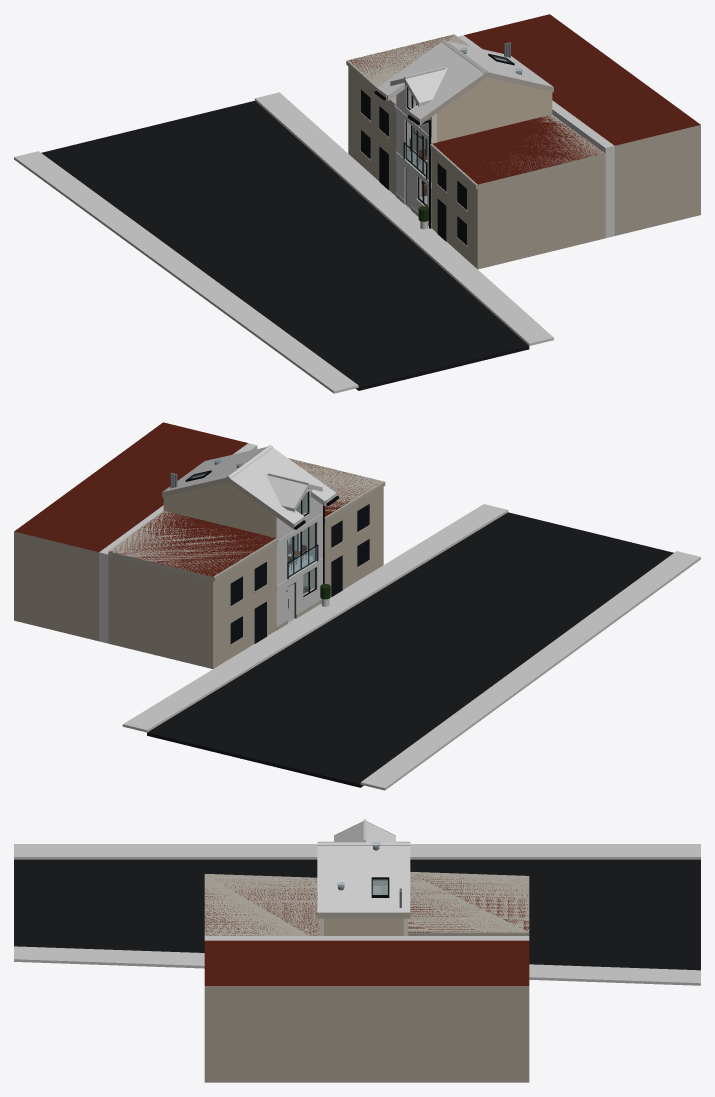
Rendered from Casa B - con terraza.obj.
3 renders of one model, top to bottom at view 1: azimuth 30°, elevation 25°; view 2: azimuth 150°, elevation 25°; view 3: azimuth 270°, elevation 25°, orthographic. The views are drawn at different scales.
Parts seen in each view (by area): view 1: Calle_y_aceras, Colindante_sur_(h_5.27), Colindante_trasero, Colindante_norte_(h_5.80), BC_Muros_exteriores, Cubierta_faldón_delantero, Cubierta_faldón_trasero, Muro_de_piedra_trasero, P1_Muros_exteriores, Casetón, PB_Muros_exteriores, P1_Vidrios_de_fachada; view 2: Calle_y_aceras, Colindante_norte_(h_5.80), Colindante_trasero, Colindante_sur_(h_5.27), BC_Muros_exteriores, Cubierta_faldón_delantero, Cubierta_faldón_trasero, Muro_de_piedra_trasero, PB_Muros_exteriores, Casetón, P1_Muros_exteriores, P1_Vidrios_de_fachada (+1 smaller); view 3: Calle_y_aceras, Colindante_trasero, Colindante_norte_(h_5.80), Colindante_sur_(h_5.27), Cubierta_faldón_trasero, Muro_de_piedra_trasero, BC_Muros_exteriores, Casetón.
Boxes of the visible parts, left/top/right/bottom form: Calle_y_aceras: left=14, top=92, right=553, bottom=393; Colindante_sur_(h_5.27): left=430, top=114, right=605, bottom=269; Colindante_trasero: left=464, top=14, right=700, bottom=235; Colindante_norte_(h_5.80): left=346, top=34, right=470, bottom=195; BC_Muros_exteriores: left=396, top=77, right=552, bottom=138; Cubierta_faldón_delantero: left=378, top=42, right=486, bottom=124; Cubierta_faldón_trasero: left=441, top=39, right=553, bottom=92; Muro_de_piedra_trasero: left=458, top=35, right=614, bottom=237; P1_Muros_exteriores: left=396, top=109, right=552, bottom=182; Casetón: left=390, top=67, right=447, bottom=130; PB_Muros_exteriores: left=396, top=157, right=431, bottom=223; P1_Vidrios_de_fachada: left=404, top=122, right=426, bottom=177; Calle_y_aceras: left=122, top=504, right=700, bottom=790; Colindante_norte_(h_5.80): left=108, top=511, right=278, bottom=668; Colindante_trasero: left=14, top=422, right=247, bottom=641; Colindante_sur_(h_5.27): left=288, top=458, right=385, bottom=597; BC_Muros_exteriores: left=163, top=482, right=322, bottom=539; Cubierta_faldón_delantero: left=228, top=448, right=335, bottom=528; Cubierta_faldón_trasero: left=162, top=445, right=273, bottom=497; Muro_de_piedra_trasero: left=99, top=443, right=257, bottom=643; PB_Muros_exteriores: left=276, top=560, right=322, bottom=625; Casetón: left=266, top=473, right=322, bottom=534; P1_Muros_exteriores: left=276, top=518, right=322, bottom=585; P1_Vidrios_de_fachada: left=287, top=523, right=317, bottom=577; Calle_y_aceras: left=14, top=844, right=700, bottom=985; Colindante_trasero: left=204, top=940, right=529, bottom=1082; Colindante_norte_(h_5.80): left=408, top=871, right=529, bottom=935; Colindante_sur_(h_5.27): left=204, top=874, right=319, bottom=935; Cubierta_faldón_trasero: left=317, top=842, right=410, bottom=918; Muro_de_piedra_trasero: left=204, top=936, right=529, bottom=940; BC_Muros_exteriores: left=319, top=918, right=408, bottom=935; Casetón: left=334, top=819, right=395, bottom=842.
Bounding box in the file's own units: 29.6 × 9.41 × 36.
